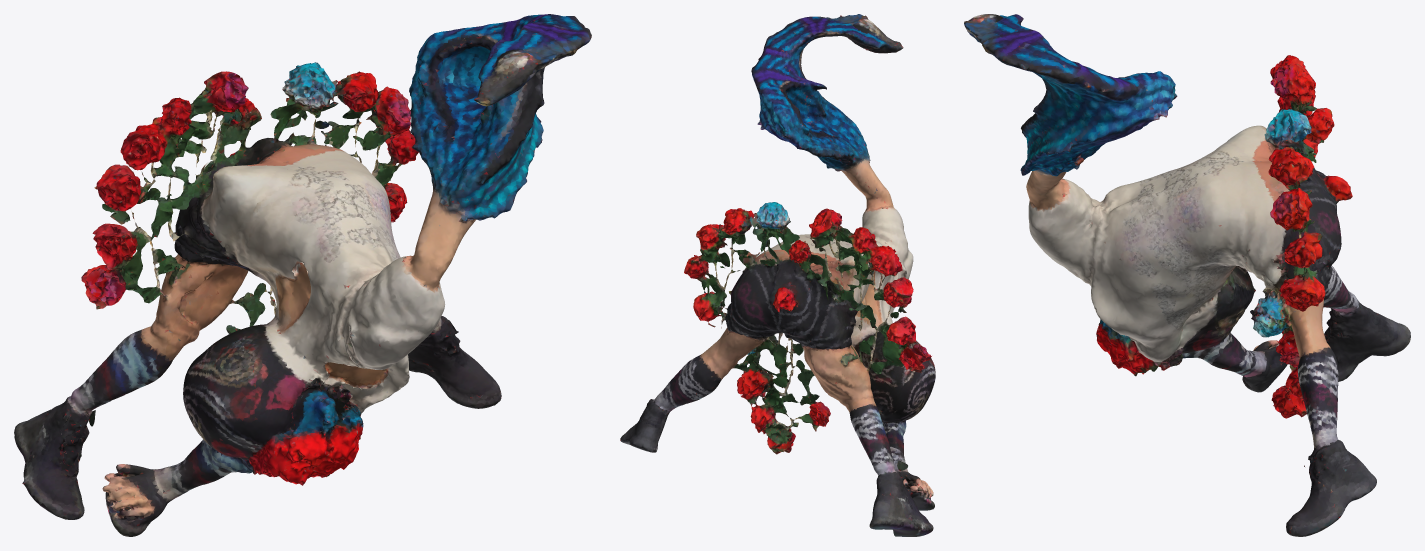
The model's file is smol.glb.
3 renders of one model, left to right at view 1: azimuth 30°, elevation 25°; view 2: azimuth 150°, elevation 25°; view 3: azimuth 270°, elevation 25°, orthographic. The views are drawn at different scales.
Parts seen in each view (by area): view 1: Mesh_0; view 2: Mesh_0; view 3: Mesh_0.
Boxes of the visible parts, x1,y1,x2,y2 form: Mesh_0: (14, 14, 591, 536); Mesh_0: (620, 14, 935, 536); Mesh_0: (964, 14, 1410, 536).
Bounding box in the file's own units: 1.77 × 2 × 1.7.
Materials: 1 (1 with a texture image).
